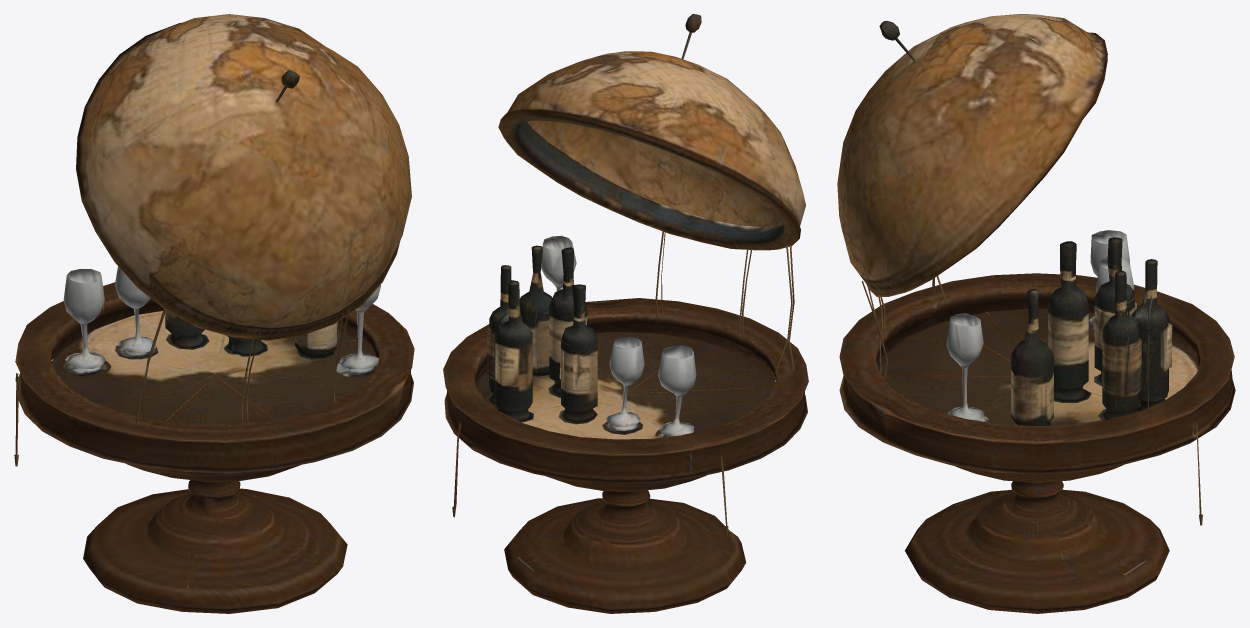
The model's file is office-globe-bar.glb.
3 renders of one model, left to right at view 1: azimuth 30°, elevation 25°; view 2: azimuth 150°, elevation 25°; view 3: azimuth 270°, elevation 25°, orthographic. The views are drawn at different scales.
Parts seen in each view (by area): view 1: globe-bar; view 2: globe-bar; view 3: globe-bar.
Part boxes in pixels (x1=…): globe-bar: x1=14, y1=14, x2=414, y2=613; globe-bar: x1=443, y1=14, x2=808, y2=613; globe-bar: x1=837, y1=14, x2=1235, y2=613.
Size of the model in its own units: 0.6691 by 1 by 0.6701.
1 material, 1 textured.
